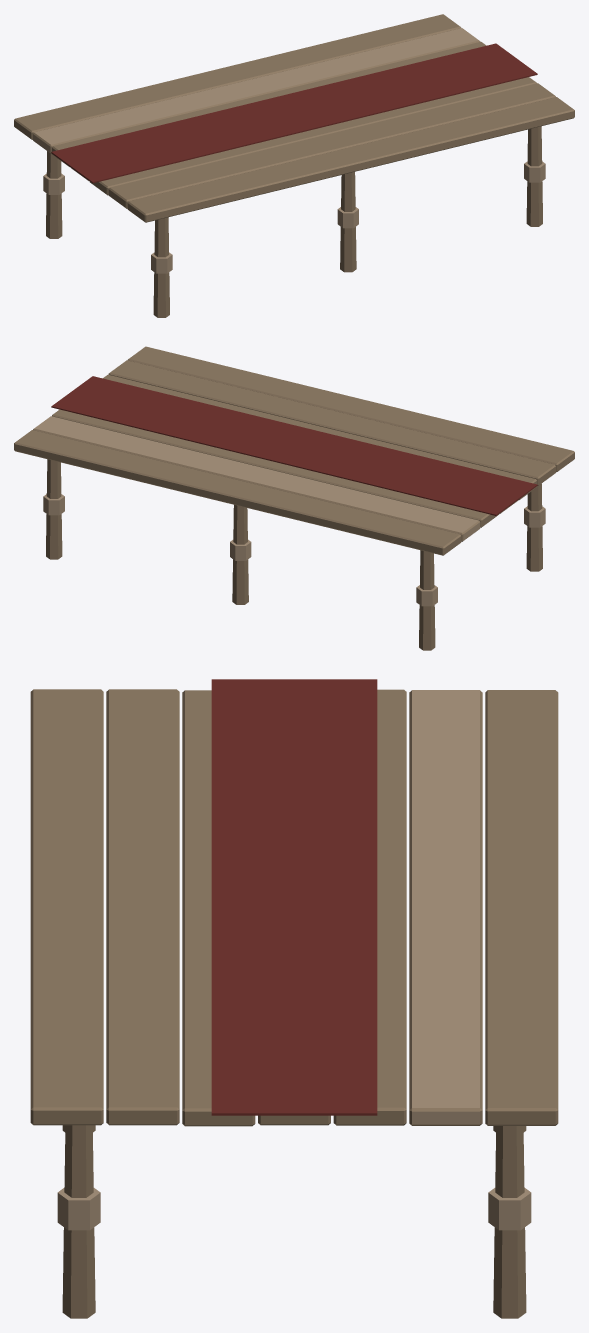
Rendered from table_big_3.glb.
3 renders of one model, top to bottom at view 1: azimuth 30°, elevation 25°; view 2: azimuth 150°, elevation 25°; view 3: azimuth 270°, elevation 25°, orthographic. The views are drawn at different scales.
Visible parts, largest first — view 1: Table_Big_3; view 2: Table_Big_3; view 3: Table_Big_3.
Part boxes in pixels (x1,y1,x2,y2): Table_Big_3: (14, 14, 574, 317); Table_Big_3: (14, 346, 574, 650); Table_Big_3: (30, 679, 558, 1318).
Bounding box in the file's own units: 3.1 × 0.78 × 1.59.
